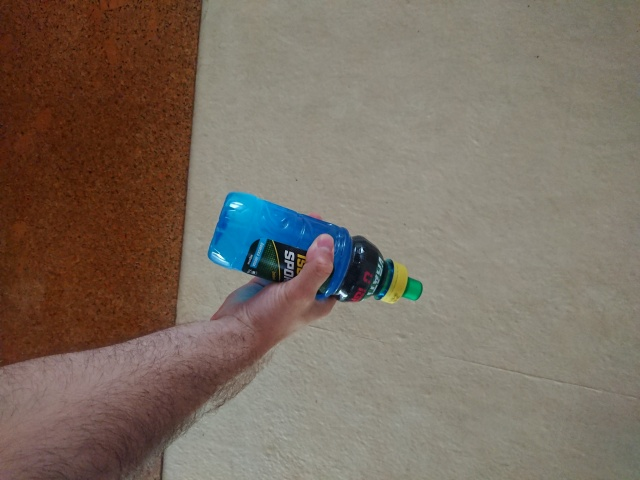Vindi Iso Sport Forest Strawberries 500mL: (206, 190, 424, 306)
